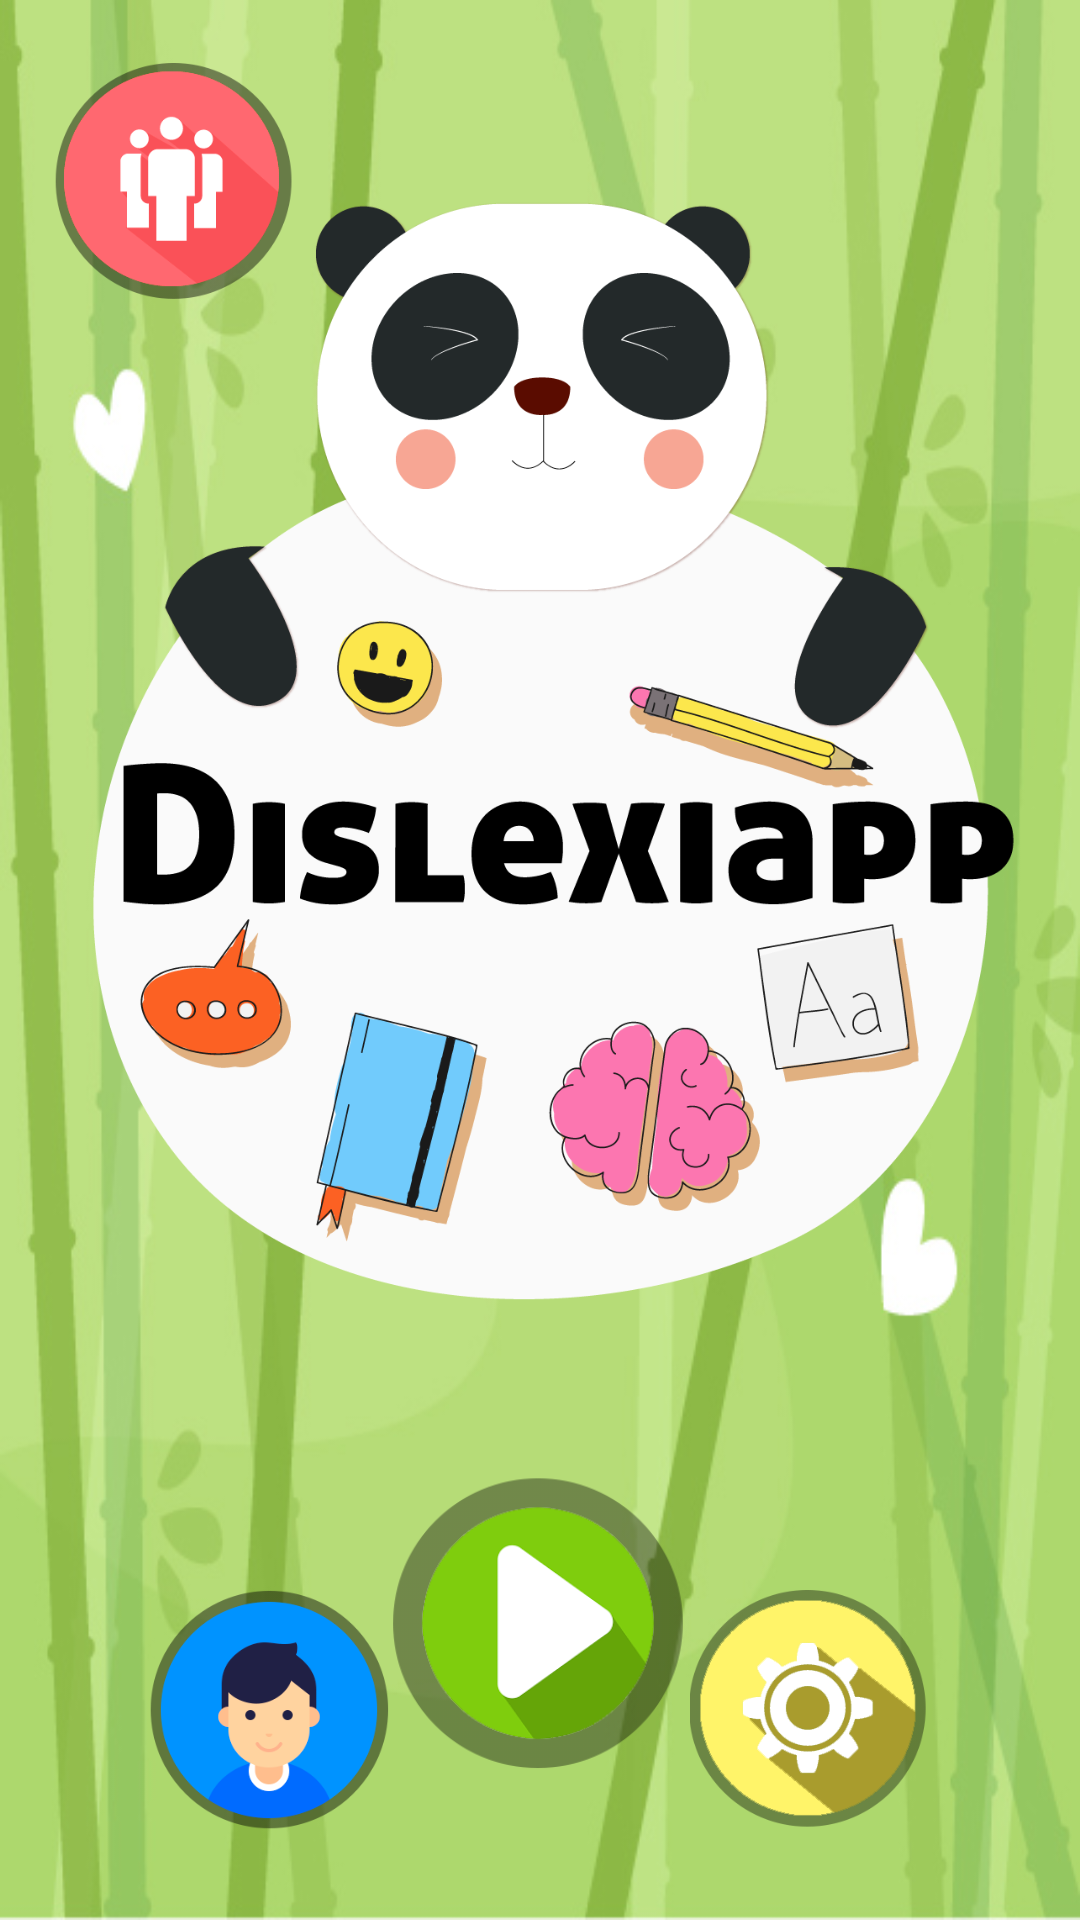

Icon bounding boxes for this 1080*1920 phone screenshot, format region(x1, y1, x2, y2):
people: region(55, 63, 292, 303)
person: region(150, 1590, 388, 1830)
play: region(393, 1470, 690, 1770)
settings: region(690, 1590, 926, 1827)
